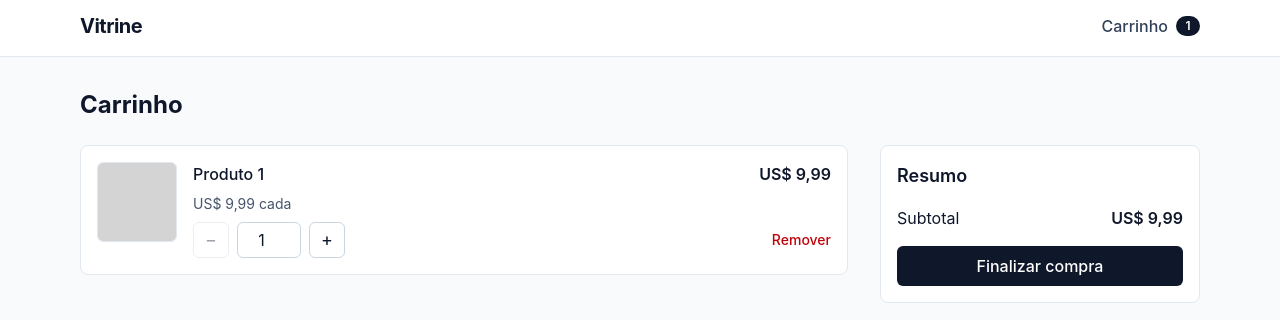
Test: CartPage › digitar a quantidade atualiza o subtotal
The image size is (1280, 320).
Step 1. Replace the text in the number field named "Quantidade de Produto 1" with "3" → [269, 240], box [237,222,301,258]
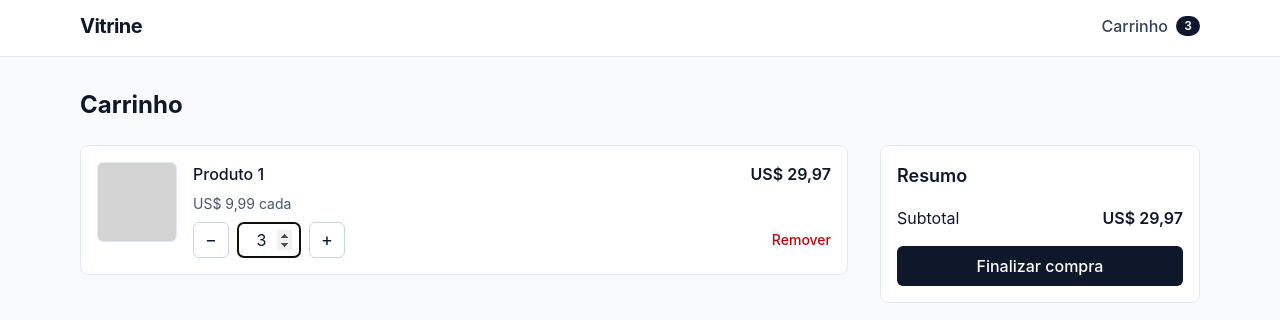
Expected: the text "US$ 29,97" next to "Subtotal" is shown, [1102,208,1183,228]
